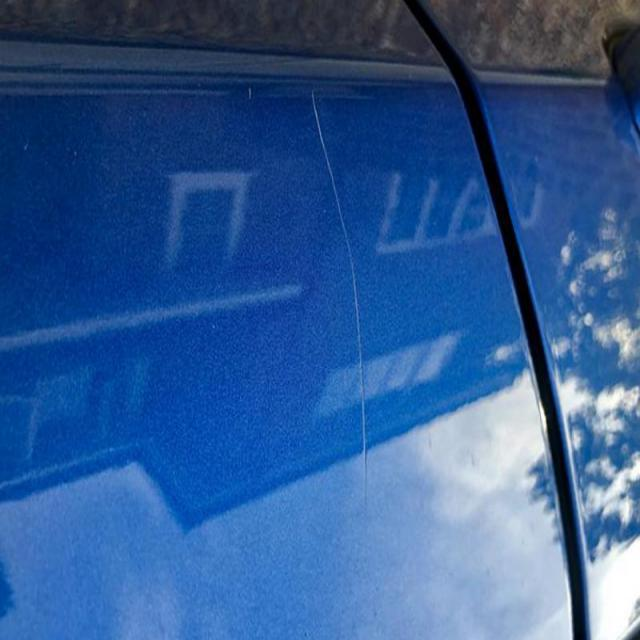scratch: (302, 80, 377, 519)
